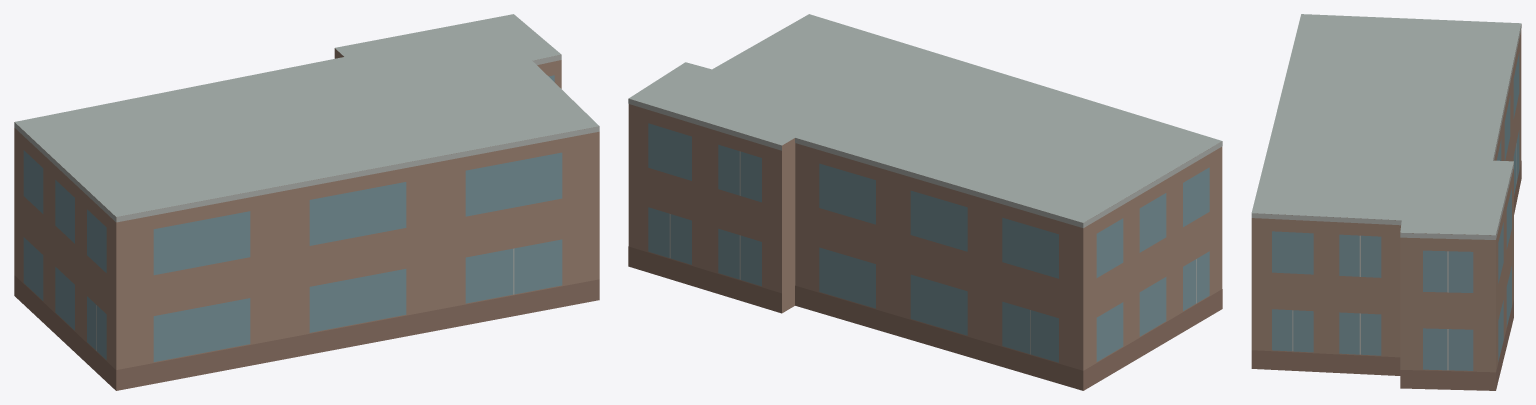
Rendered from survey-upis-32766101.glb.
3 renders of one model, left to right at view 1: azimuth 30°, elevation 25°; view 2: azimuth 150°, elevation 25°; view 3: azimuth 270°, elevation 25°, orthographic. The views are drawn at different scales.
Parts seen in each view (by area): view 1: survey-upis-32766101.tmp; view 2: survey-upis-32766101.tmp; view 3: survey-upis-32766101.tmp.
Part boxes in pixels (x1=…): survey-upis-32766101.tmp: x1=14, y1=14, x2=599, y2=390; survey-upis-32766101.tmp: x1=628, y1=14, x2=1222, y2=390; survey-upis-32766101.tmp: x1=1251, y1=14, x2=1521, y2=390.
Size of the model in its own units: 23.78 by 7.8 by 12.27.
